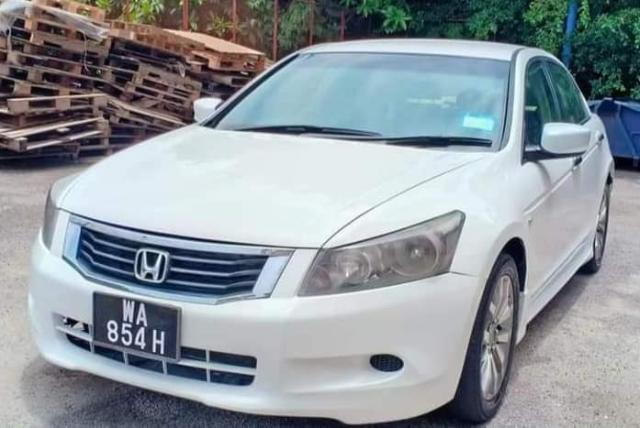License_Plate: (89, 291, 179, 361)
